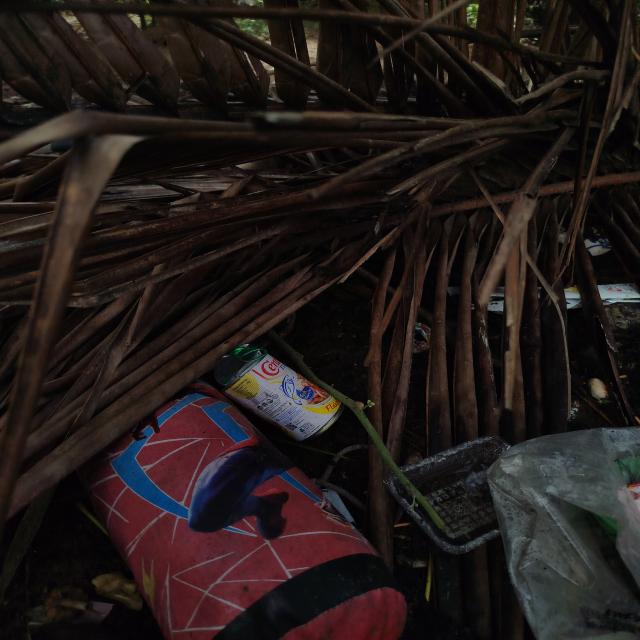metal: (211, 335, 354, 444)
residual: (488, 429, 640, 640)
